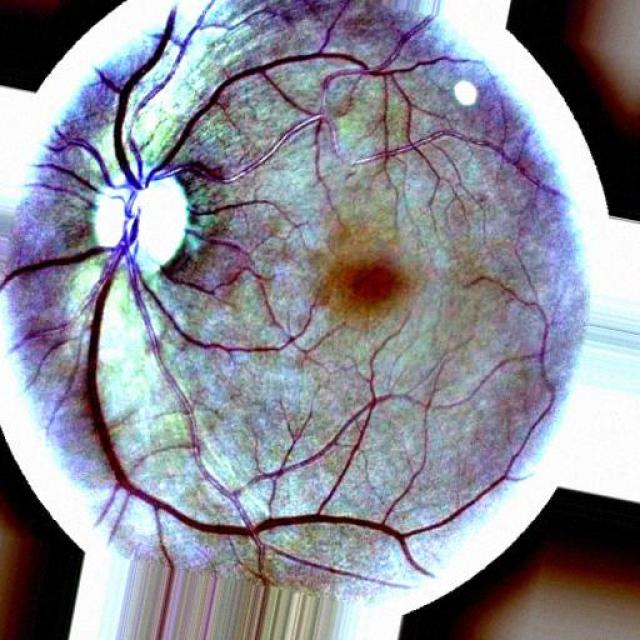Nerves: (0, 0, 431, 575)
Optic Disk: (95, 176, 190, 275)
